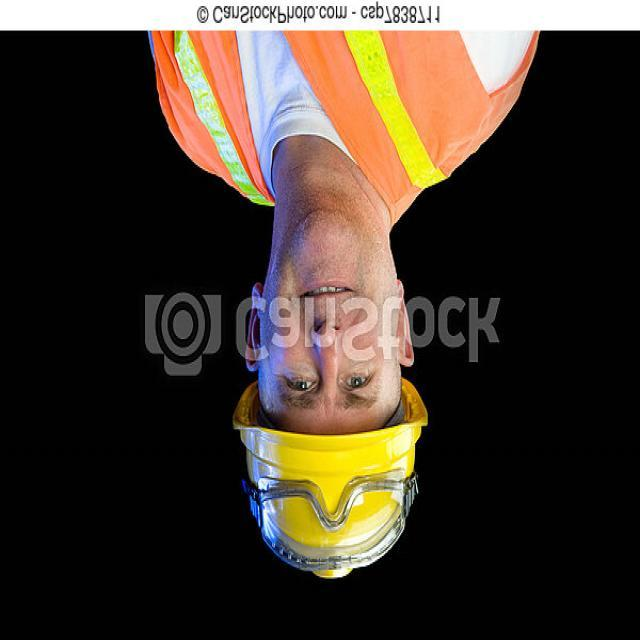safetyhelmet: (240, 345, 428, 583)
